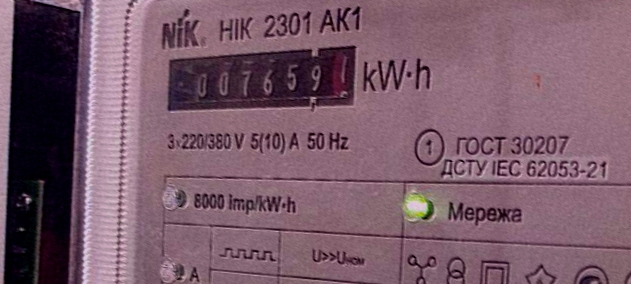0: (195, 69, 211, 99), (216, 70, 232, 98)
1: (336, 54, 351, 86)
5: (283, 61, 301, 95)
6: (261, 66, 277, 98)
7: (237, 66, 254, 99)
9: (307, 61, 325, 96)
screen: (150, 20, 380, 137)
